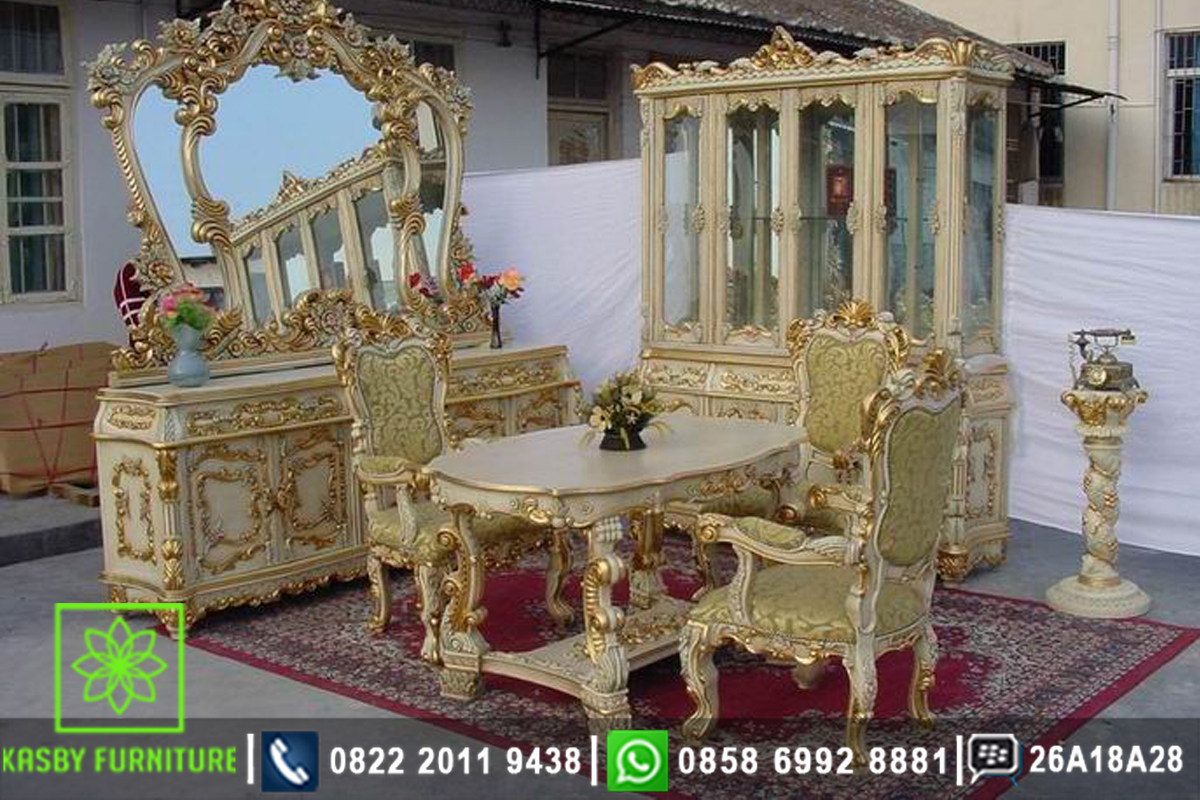Carving Chair: (707, 384, 979, 765)
Carving Table: (423, 410, 779, 675)
